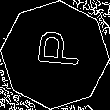P_W: (28, 34, 82, 76)
